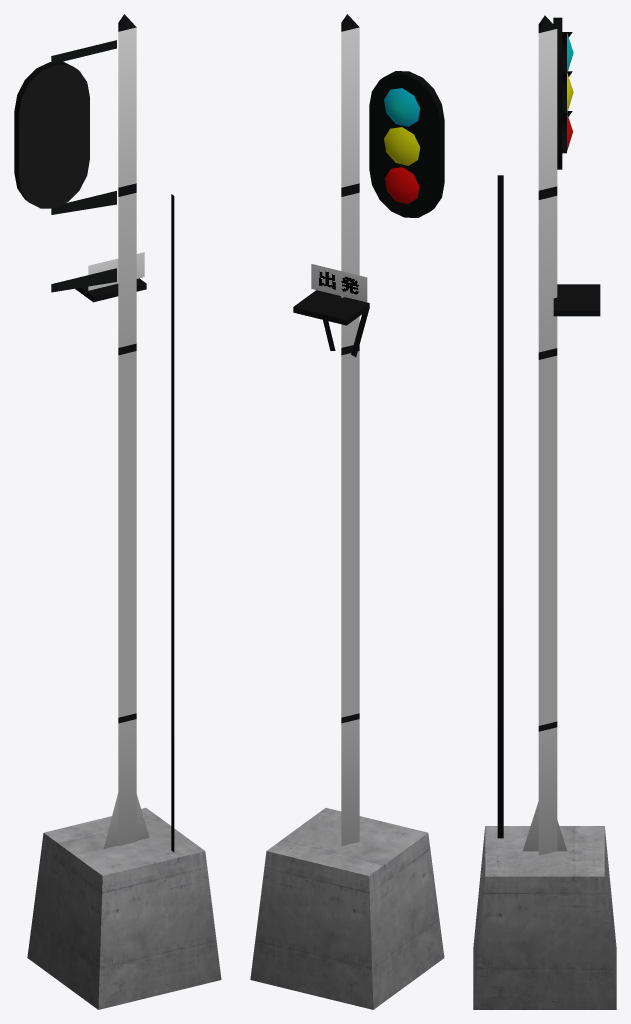
File: AMB_SIGNAL_WAIT_RED.glb
The picture shows the model from 3 angles, left to right: view 1: azimuth 30°, elevation 25°; view 2: azimuth 150°, elevation 25°; view 3: azimuth 270°, elevation 25°; orthographic projection.
Parts seen in each view (by area): view 1: obj26; view 2: obj26, ye, blue, red; view 3: obj26.
Boxes of the visible parts, <box> form: obj26: <box>14,14,221,1009</box>; obj26: <box>250,14,444,1009</box>; ye: <box>384,127,420,165</box>; blue: <box>384,88,420,126</box>; red: <box>385,167,419,203</box>; obj26: <box>473,15,616,1009</box>.
Bounding box in the file's own units: 3.05 × 17.08 × 2.3.
9 materials, 9 textured.
